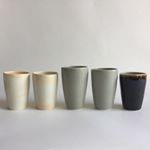cups: (59, 61, 90, 114), (90, 64, 120, 114), (1, 69, 32, 112), (117, 70, 147, 113), (31, 69, 60, 113)
